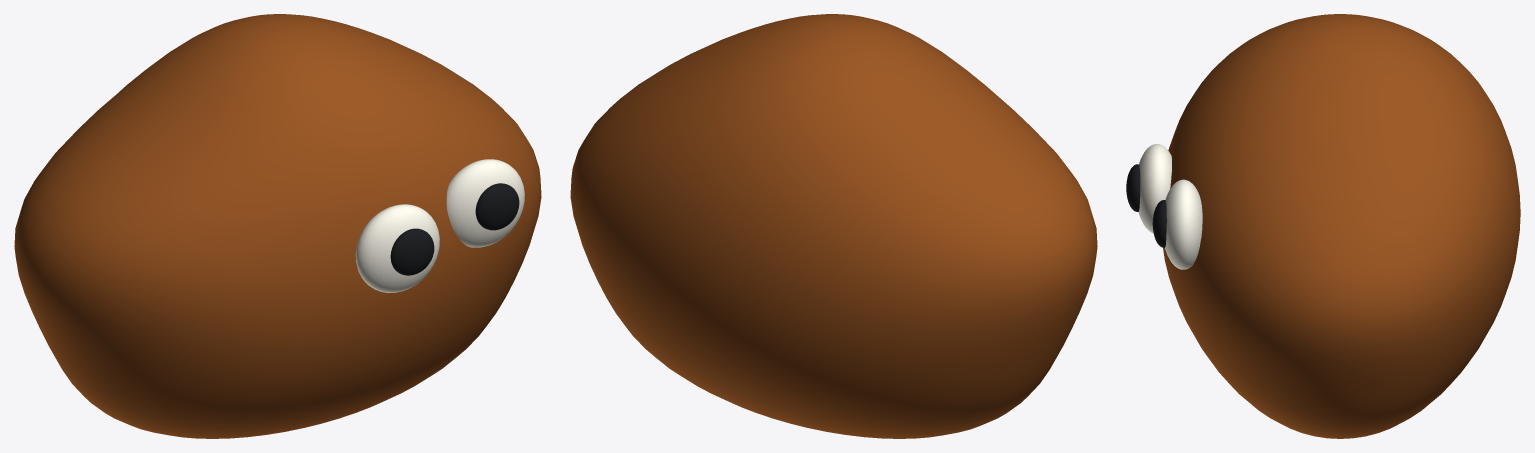
File: img-9945.glb
The picture shows the model from 3 angles, left to right: view 1: azimuth 30°, elevation 25°; view 2: azimuth 150°, elevation 25°; view 3: azimuth 270°, elevation 25°; orthographic projection. The views are drawn at different scales.
Visible parts, largest first — view 1: IMG_9945__Organic triangular pebble.005, IMG_9945__EyeWhite_0.009, IMG_9945__EyeWhite_1.009, IMG_9945__Pupil_0.009, IMG_9945__Pupil_1.009; view 2: IMG_9945__Organic triangular pebble.005; view 3: IMG_9945__Organic triangular pebble.005, IMG_9945__EyeWhite_1.009, IMG_9945__EyeWhite_0.009, IMG_9945__Pupil_0.009, IMG_9945__Pupil_1.009.
Boxes of the visible parts, x1,y1,x2,y2 form: IMG_9945__Organic triangular pebble.005: [14, 14, 541, 438]; IMG_9945__EyeWhite_0.009: [355, 204, 439, 292]; IMG_9945__EyeWhite_1.009: [446, 159, 524, 247]; IMG_9945__Pupil_0.009: [390, 228, 434, 275]; IMG_9945__Pupil_1.009: [475, 183, 519, 230]; IMG_9945__Organic triangular pebble.005: [570, 14, 1097, 438]; IMG_9945__Organic triangular pebble.005: [1163, 14, 1520, 438]; IMG_9945__EyeWhite_1.009: [1165, 179, 1202, 269]; IMG_9945__EyeWhite_0.009: [1138, 144, 1171, 233]; IMG_9945__Pupil_0.009: [1126, 164, 1140, 211]; IMG_9945__Pupil_1.009: [1152, 200, 1166, 247].
Size of the model in its own units: 1.34 by 1 by 0.9668.
